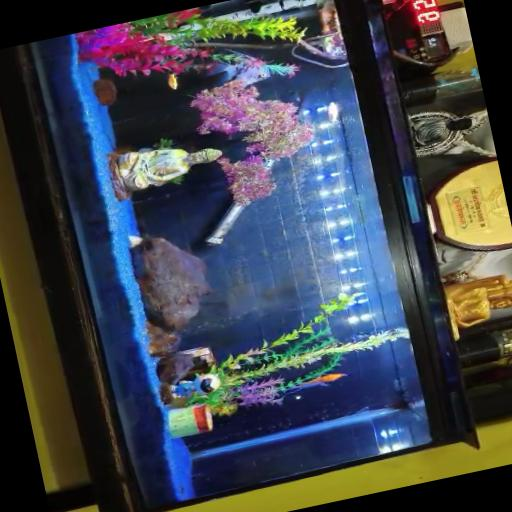Fish: (206, 61, 270, 85), (284, 373, 345, 392), (166, 73, 177, 89)
